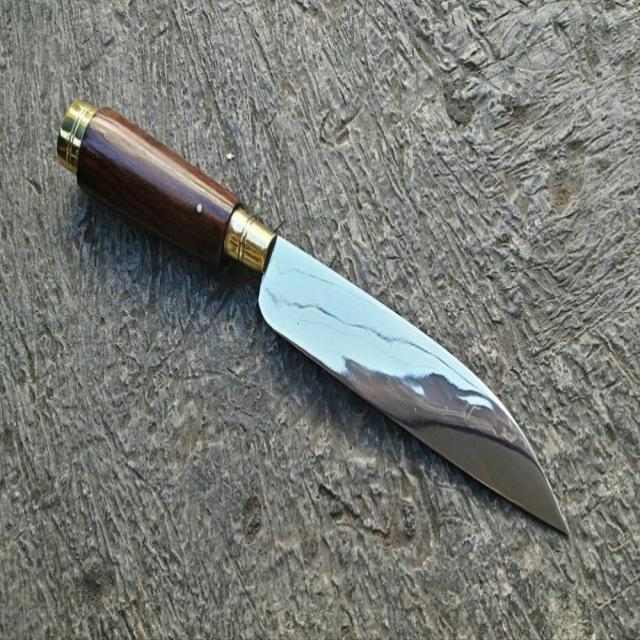Pisau: (43, 81, 585, 546)
